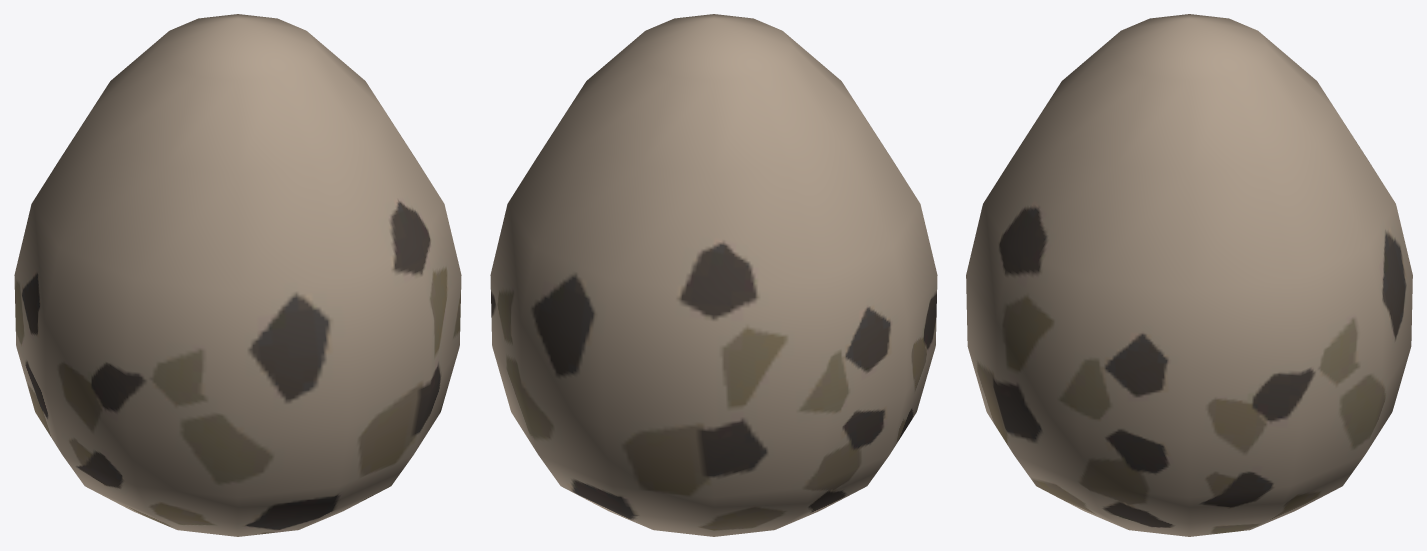
The model's file is Item_Material_04.glb.
3 renders of one model, left to right at view 1: azimuth 30°, elevation 25°; view 2: azimuth 150°, elevation 25°; view 3: azimuth 270°, elevation 25°, orthographic.
Visible parts, largest first — view 1: Item_Material_04; view 2: Item_Material_04; view 3: Item_Material_04.
Part boxes in pixels (x1,y1,x2,y2): Item_Material_04: (14, 14, 461, 536); Item_Material_04: (490, 14, 937, 536); Item_Material_04: (966, 14, 1412, 536).
Size of the model in its own units: 0.2874 by 0.354 by 0.2874.
Materials: 1 (1 with a texture image).
